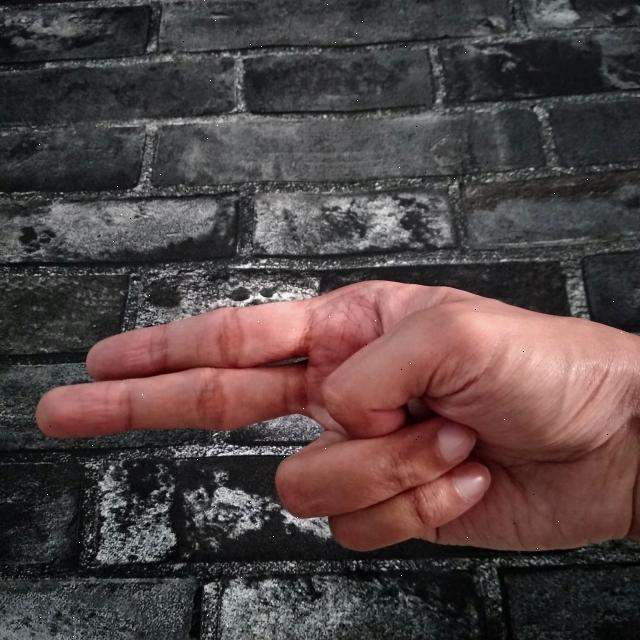H: (34, 277, 640, 564), (35, 277, 640, 564)
